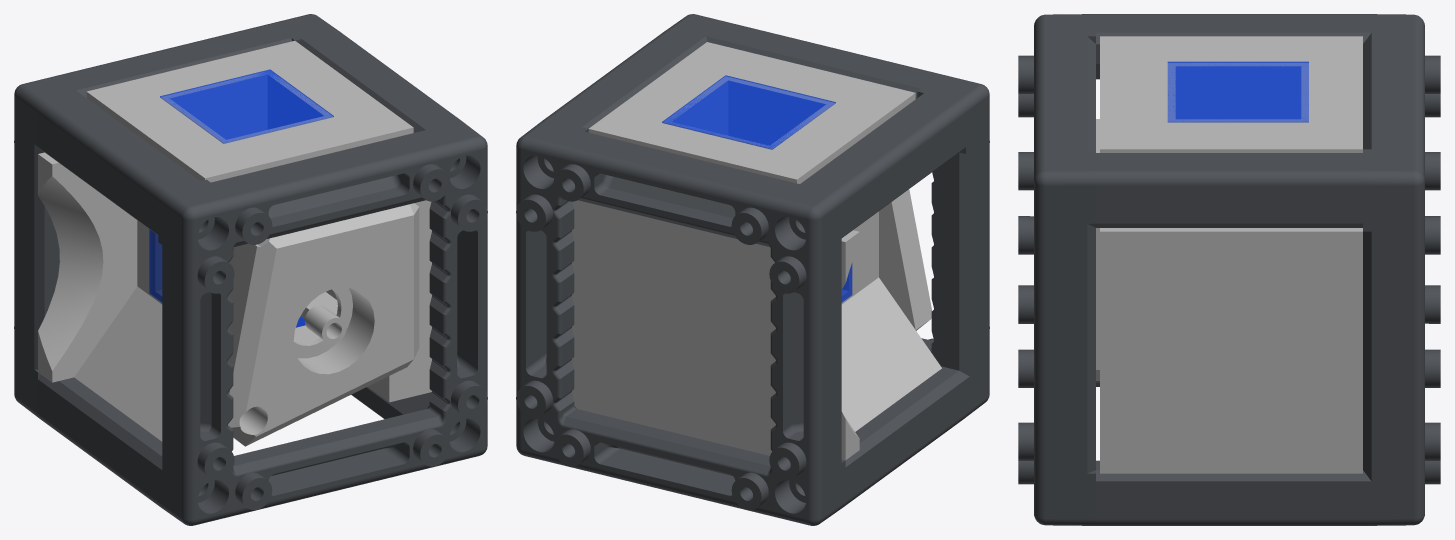
File: ASS_-_2052_-_CUBAQU_-_V04.glb
3 views of the same model, side by side, from view 1: azimuth 30°, elevation 25°; view 2: azimuth 150°, elevation 25°; view 3: azimuth 270°, elevation 25° (orthographic). The views are drawn at different scales.
Visible parts, largest first — view 1: PRT - 1003 - CUBHLF111 - V04:2, PRT - 2058 - INSAQU - V04:1, PRT - 2058 - INSAQULID - V04:1, PRT - 1003 - CUBHLF111 - V04:1, BUY - Zeiss - Cover Glas 18x18x0,17mm:2, PRT - 2058 - INSAQUREDUCER - V04:1, BUY - Zeiss - Cover Glas 18x18x0,17mm:1; view 2: PRT - 1003 - CUBHLF111 - V04:1, PRT - 2058 - INSAQU - V04:1, PRT - 1003 - CUBHLF111 - V04:2, BUY - Zeiss - Cover Glas 18x18x0,17mm:2, PRT - 2058 - INSAQULID - V04:1; view 3: PRT - 2058 - INSAQU - V04:1, PRT - 1003 - CUBHLF111 - V04:1, PRT - 1003 - CUBHLF111 - V04:2, BUY - Zeiss - Cover Glas 18x18x0,17mm:2, PRT - 2058 - INSAQULID - V04:1.
Part boxes in pixels (x1,y1,x2,y2): PRT - 1003 - CUBHLF111 - V04:2: [38, 31, 487, 525]; PRT - 2058 - INSAQU - V04:1: [38, 40, 431, 441]; PRT - 2058 - INSAQULID - V04:1: [228, 203, 419, 446]; PRT - 1003 - CUBHLF111 - V04:1: [14, 14, 455, 429]; BUY - Zeiss - Cover Glas 18x18x0,17mm:2: [160, 69, 333, 143]; PRT - 2058 - INSAQUREDUCER - V04:1: [304, 305, 346, 343]; BUY - Zeiss - Cover Glas 18x18x0,17mm:1: [149, 229, 162, 302]; PRT - 1003 - CUBHLF111 - V04:1: [516, 93, 965, 525]; PRT - 2058 - INSAQU - V04:1: [572, 42, 941, 460]; PRT - 1003 - CUBHLF111 - V04:2: [544, 14, 989, 506]; BUY - Zeiss - Cover Glas 18x18x0,17mm:2: [662, 75, 835, 149]; PRT - 2058 - INSAQULID - V04:1: [879, 189, 931, 330]; PRT - 2058 - INSAQU - V04:1: [1100, 36, 1362, 473]; PRT - 1003 - CUBHLF111 - V04:1: [1096, 14, 1440, 525]; PRT - 1003 - CUBHLF111 - V04:2: [1018, 14, 1362, 525]; BUY - Zeiss - Cover Glas 18x18x0,17mm:2: [1167, 61, 1308, 122]; PRT - 2058 - INSAQULID - V04:1: [1096, 119, 1099, 380].
Bounding box in the file's own units: 49.8 × 49.97 × 53.8.
